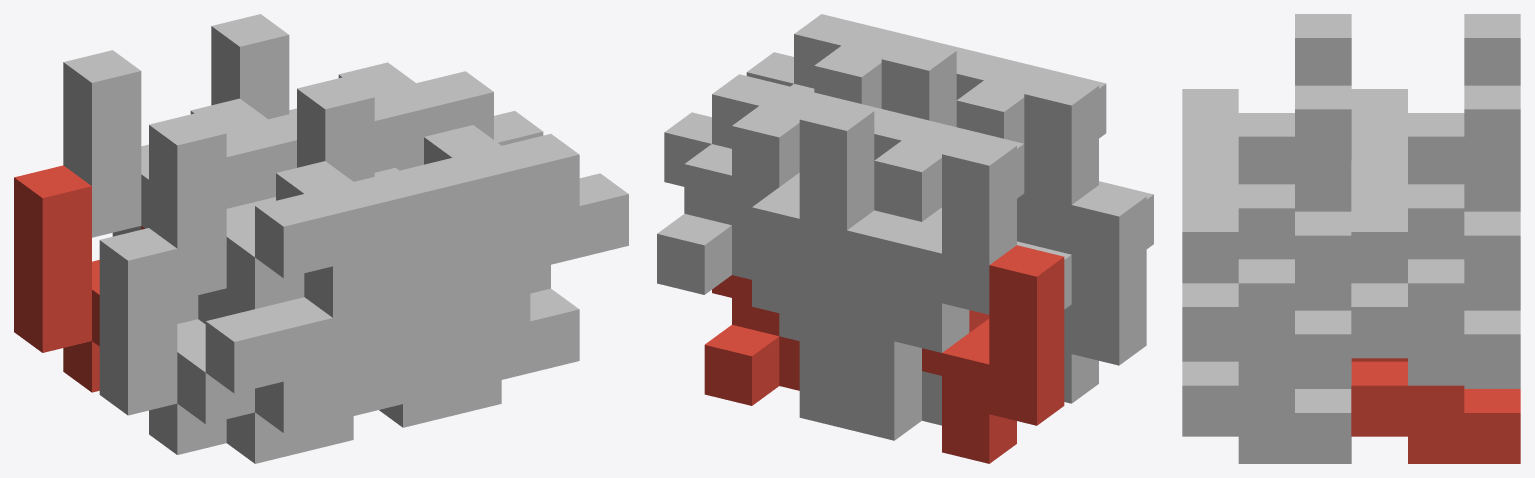
The model's file is tiling.obj.
The picture shows the model from 3 angles, left to right: view 1: azimuth 30°, elevation 25°; view 2: azimuth 150°, elevation 25°; view 3: azimuth 270°, elevation 25°; orthographic projection. The views are drawn at different scales.
Parts seen in each view (by area): view 1: copy_1_domain_2, copy_1_domain_4, copy_2_domain_2, copy_2_domain_8, copy_2_domain_4, copy_2_domain_6, copy_1_domain_1, copy_1_domain_3, copy_1_domain_8, copy_2_domain_7, copy_1_domain_7, copy_2_domain_3 (+1 smaller); view 2: copy_1_domain_7, copy_1_domain_3, copy_1_domain_1, copy_2_domain_7, copy_1_domain_4, copy_1_domain_5, copy_1_domain_2, copy_1_domain_8, copy_2_domain_5, copy_2_domain_3, copy_2_domain_1, copy_2_domain_8 (+2 smaller); view 3: copy_2_domain_7, copy_2_domain_8, copy_1_domain_8, copy_1_domain_7, copy_2_domain_6, copy_2_domain_5, copy_1_domain_3, copy_1_domain_4, copy_2_domain_3, copy_2_domain_4.
Part boxes in pixels (bbox=[...]): copy_1_domain_2: bbox=[99, 228, 332, 454]; copy_1_domain_4: bbox=[149, 112, 382, 324]; copy_2_domain_2: bbox=[205, 297, 431, 463]; copy_2_domain_8: bbox=[403, 134, 628, 293]; copy_2_domain_4: bbox=[255, 170, 480, 305]; copy_2_domain_6: bbox=[379, 270, 579, 427]; copy_1_domain_1: bbox=[14, 165, 144, 392]; copy_1_domain_3: bbox=[63, 50, 267, 237]; copy_1_domain_8: bbox=[297, 76, 530, 281]; copy_2_domain_7: bbox=[371, 71, 543, 172]; copy_1_domain_7: bbox=[211, 14, 423, 170]; copy_2_domain_3: bbox=[223, 112, 296, 208]; copy_1_domain_7: bbox=[732, 99, 874, 318]; copy_1_domain_3: bbox=[874, 134, 1016, 352]; copy_1_domain_1: bbox=[922, 245, 1064, 463]; copy_2_domain_7: bbox=[657, 74, 880, 294]; copy_1_domain_4: bbox=[956, 74, 1098, 254]; copy_1_domain_5: bbox=[779, 210, 921, 428]; copy_1_domain_2: bbox=[1064, 185, 1146, 403]; copy_1_domain_8: bbox=[814, 39, 956, 126]; copy_2_domain_5: bbox=[704, 275, 799, 405]; copy_2_domain_3: bbox=[799, 109, 1024, 329]; copy_2_domain_1: bbox=[847, 241, 1071, 440]; copy_2_domain_8: bbox=[746, 14, 963, 92]; copy_2_domain_7: bbox=[1351, 160, 1520, 385]; copy_2_domain_8: bbox=[1182, 160, 1351, 385]; copy_1_domain_8: bbox=[1238, 85, 1351, 310]; copy_1_domain_7: bbox=[1408, 85, 1520, 310]; copy_2_domain_6: bbox=[1182, 358, 1351, 463]; copy_2_domain_5: bbox=[1351, 358, 1520, 463]; copy_1_domain_3: bbox=[1408, 14, 1520, 184]; copy_1_domain_4: bbox=[1238, 14, 1351, 184]; copy_2_domain_3: bbox=[1351, 89, 1407, 160]; copy_2_domain_4: bbox=[1182, 89, 1238, 160].
Size of the model in its own units: 9 by 6 by 6.
